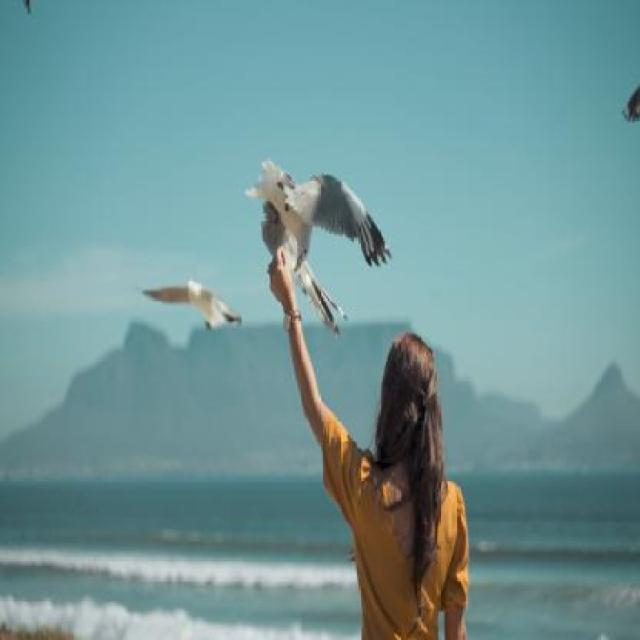bird: (239, 147, 395, 350), (128, 256, 242, 364)
